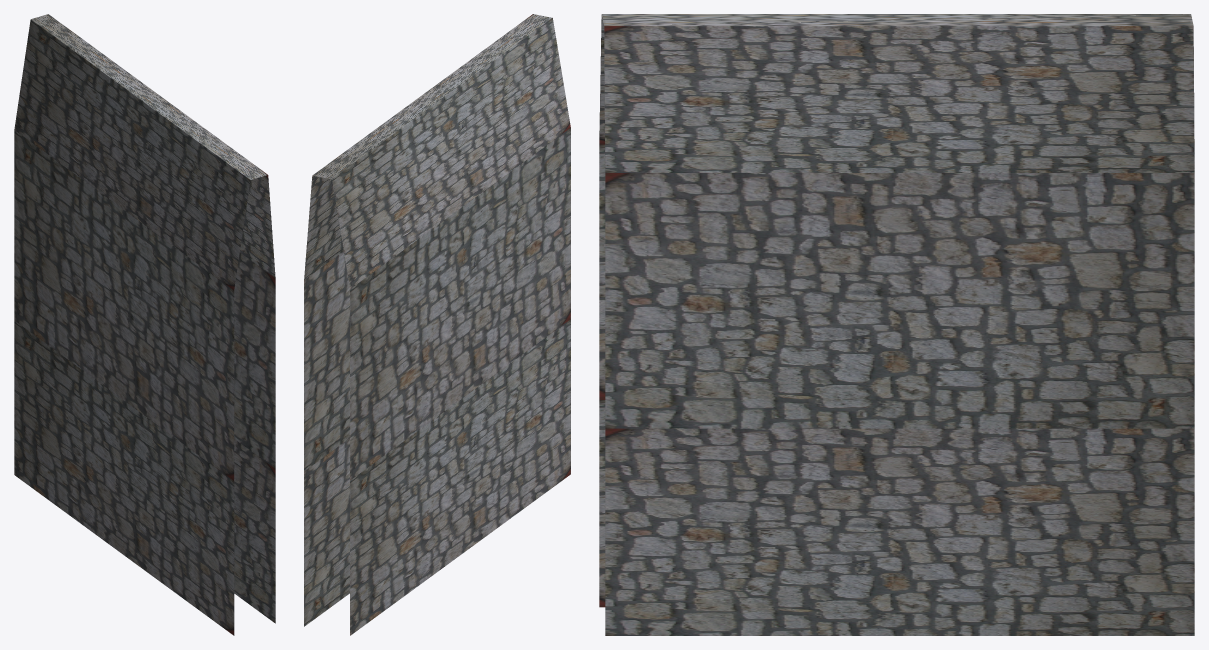
Rendered from TrumpWall_Piece2.fbx.
3 views of the same model, side by side, from view 1: azimuth 30°, elevation 25°; view 2: azimuth 150°, elevation 25°; view 3: azimuth 270°, elevation 25° (orthographic). The views are drawn at different scales.
Visible parts, largest first — view 1: polySurface68; view 2: polySurface68; view 3: polySurface68.
Boxes of the visible parts, x1,y1,x2,y2 form: polySurface68: [14, 14, 275, 635]; polySurface68: [304, 14, 570, 635]; polySurface68: [599, 14, 1194, 635].
Size of the model in its own units: 90.75 by 897 by 800.
Materials: 1 (1 with a texture image).
